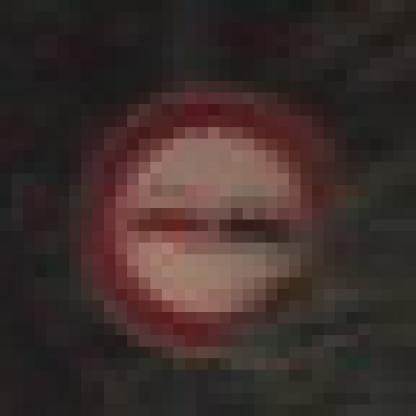No Overtaking: (59, 70, 348, 348)
